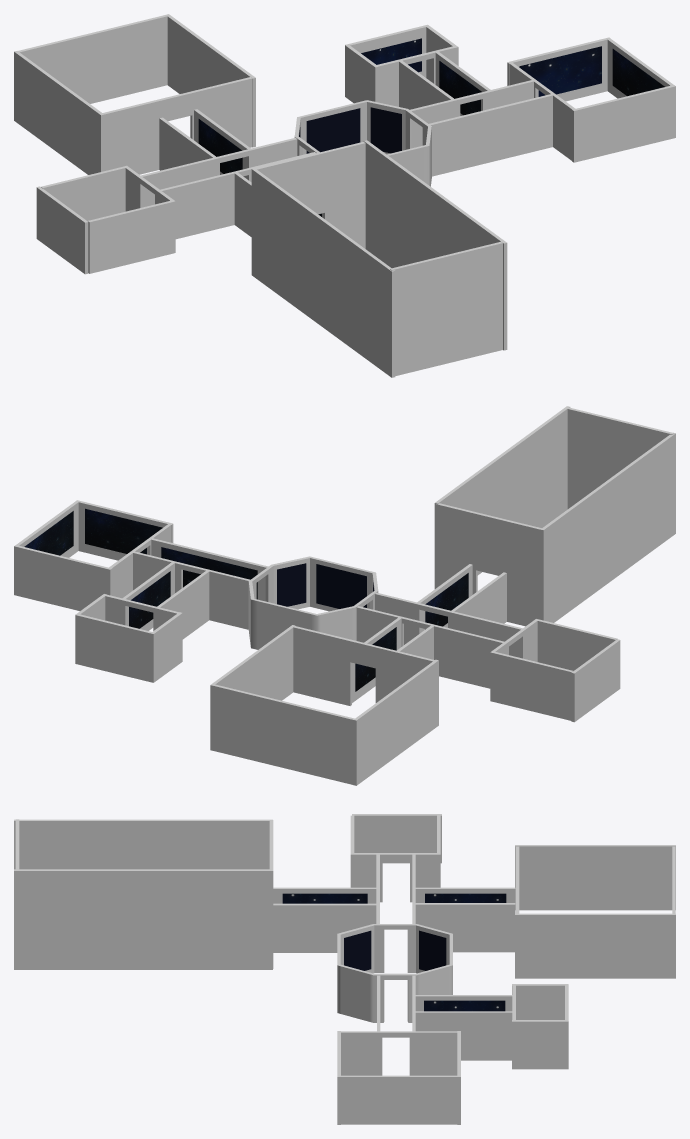
The model's file is tutorial_walls.fbx.
3 renders of one model, top to bottom at view 1: azimuth 30°, elevation 25°; view 2: azimuth 150°, elevation 25°; view 3: azimuth 270°, elevation 25°, orthographic. The views are drawn at different scales.
Parts seen in each view (by area): view 1: gliding_wall2, gliding_wall, gliding_wall3, grapple_wall1, grapple_wall, hallway_wall, grapple_wall2, main_walls, gliding_wall1, portal_wall1, picture_wall3, grapple_wall3 (+18 smaller); view 2: gliding_wall2, grapple_wall1, gliding_wall3, main_walls, gliding_wall1, grapple_wall, grapple_wall2, gliding_wall, portal_wall3, hallway_wall2, picture_wall2, bedroom_wall3 (+18 smaller); view 3: gliding_wall3, gliding_wall2, grapple_wall3, grapple_wall2, main_walls, portal_wall2, portal_wall, hallway_wall7, hallway_wall4, hallway_wall9, picture_wall, bedroom_wall2 (+5 smaller).
Boxes of the visible parts, x1,y1,x2,y2 form: gliding_wall2: [251, 168, 395, 377]; gliding_wall: [390, 241, 502, 375]; gliding_wall3: [363, 140, 507, 350]; grapple_wall1: [18, 14, 168, 103]; grapple_wall: [103, 77, 252, 174]; hallway_wall: [429, 93, 554, 176]; grapple_wall2: [14, 51, 104, 174]; main_walls: [294, 100, 431, 186]; gliding_wall1: [255, 141, 365, 248]; portal_wall1: [572, 85, 675, 162]; picture_wall3: [88, 200, 173, 273]; grapple_wall3: [167, 14, 255, 147]; gliding_wall2: [540, 432, 675, 622]; grapple_wall1: [212, 684, 354, 784]; gliding_wall3: [434, 406, 570, 588]; main_walls: [248, 556, 378, 649]; gliding_wall1: [436, 503, 542, 626]; grapple_wall: [293, 626, 434, 705]; grapple_wall2: [353, 659, 438, 785]; gliding_wall: [567, 407, 674, 508]; portal_wall3: [14, 545, 112, 610]; hallway_wall2: [356, 606, 504, 688]; picture_wall2: [492, 651, 572, 720]; bedroom_wall3: [75, 614, 154, 682]; gliding_wall3: [14, 869, 272, 969]; gliding_wall2: [14, 819, 272, 869]; grapple_wall3: [515, 913, 675, 978]; grapple_wall2: [515, 845, 675, 910]; main_walls: [337, 924, 452, 1022]; portal_wall2: [341, 1075, 460, 1124]; portal_wall: [339, 1031, 459, 1075]; hallway_wall7: [273, 903, 376, 952]; hallway_wall4: [415, 903, 515, 952]; hallway_wall9: [415, 1011, 515, 1060]; picture_wall: [352, 814, 441, 863]; bedroom_wall2: [512, 1020, 568, 1069].
Bounding box in the file's own units: 83.6 × 14.67 × 88.93.
